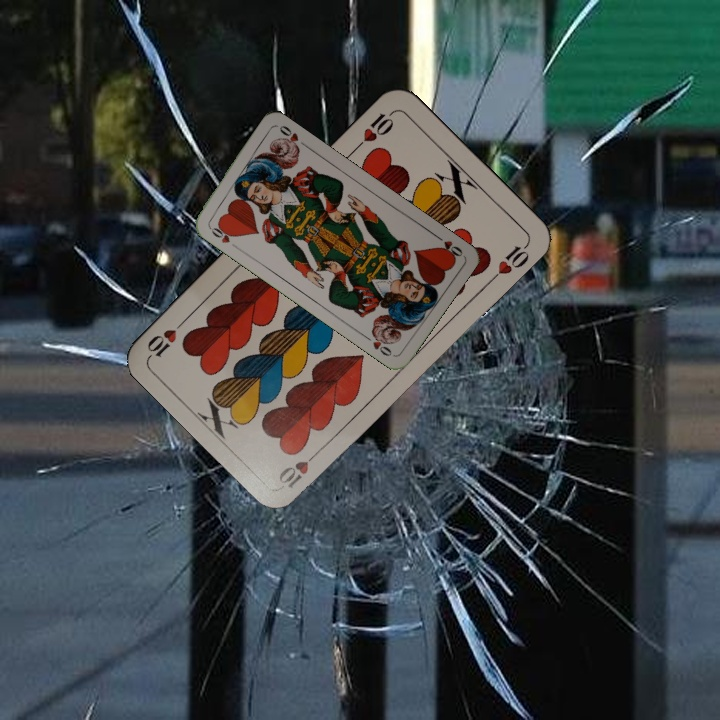H10: (274, 444, 324, 491), (351, 106, 397, 153)
HO: (205, 220, 240, 251), (430, 230, 465, 261)
